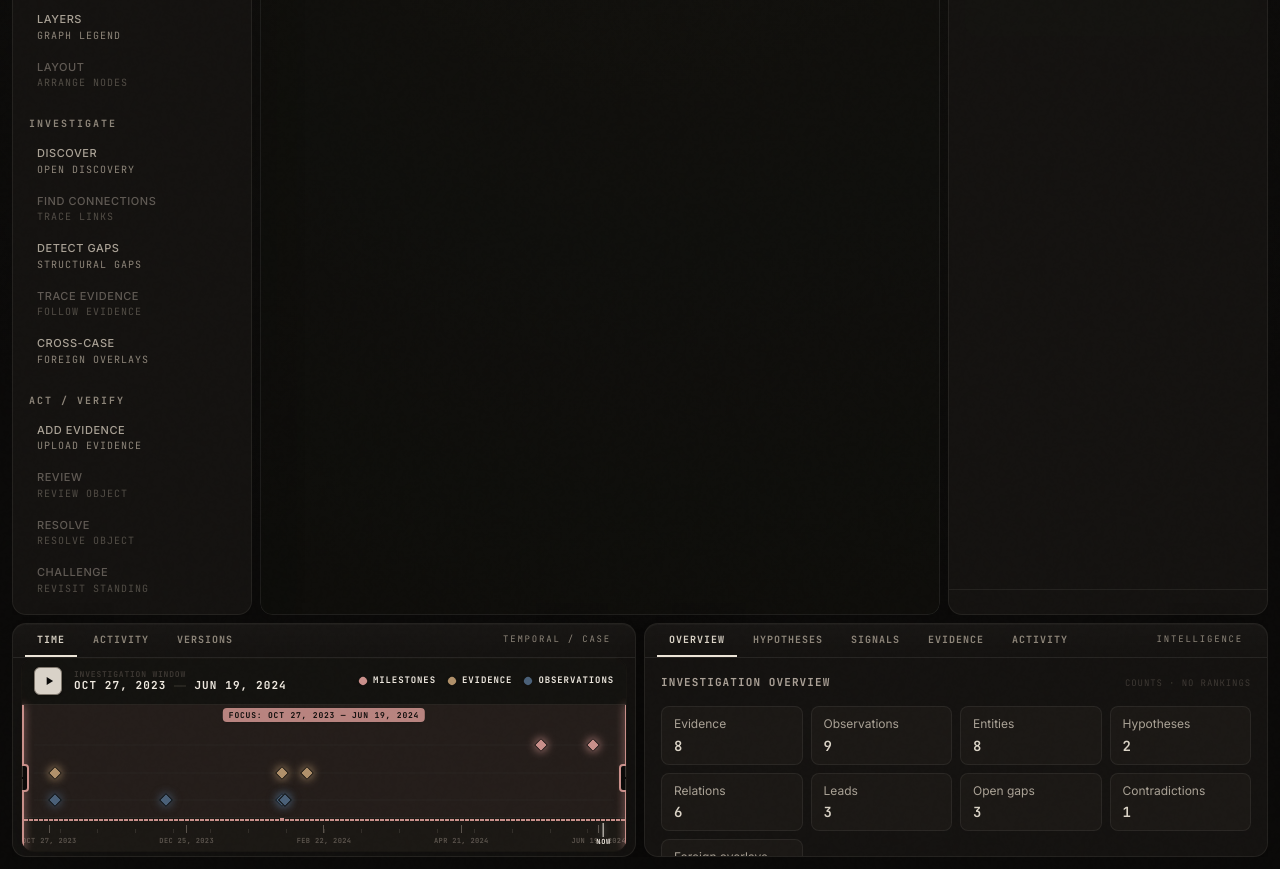
Scenario: PR-2 — initial five-zone layout › composes the TimelinePanel inside the TIME tab and leaves it mounted only there
(page scrolled)
Expected: the text "MILESTONES" is shown, left=359, top=674, right=436, bottom=688
Step 1. Click the tab "Versions" → (205, 640), box left=165, top=624, right=245, bottom=656
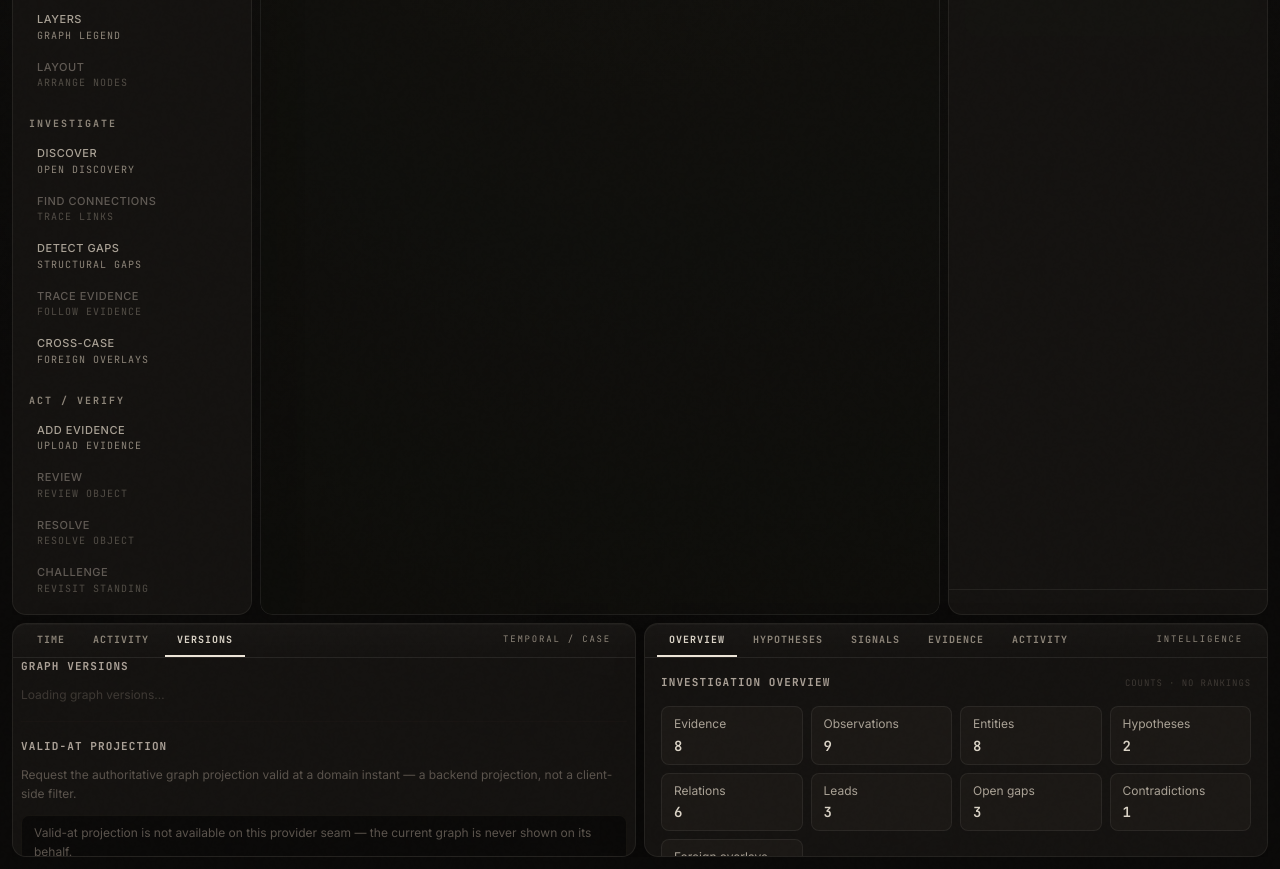
Now the text "MILESTONES" is gone
Now the heading "Graph versions" is shown, box left=21, top=658, right=129, bottom=674
Step 2. Click the tab "Time" → (51, 640), box left=25, top=624, right=77, bottom=656
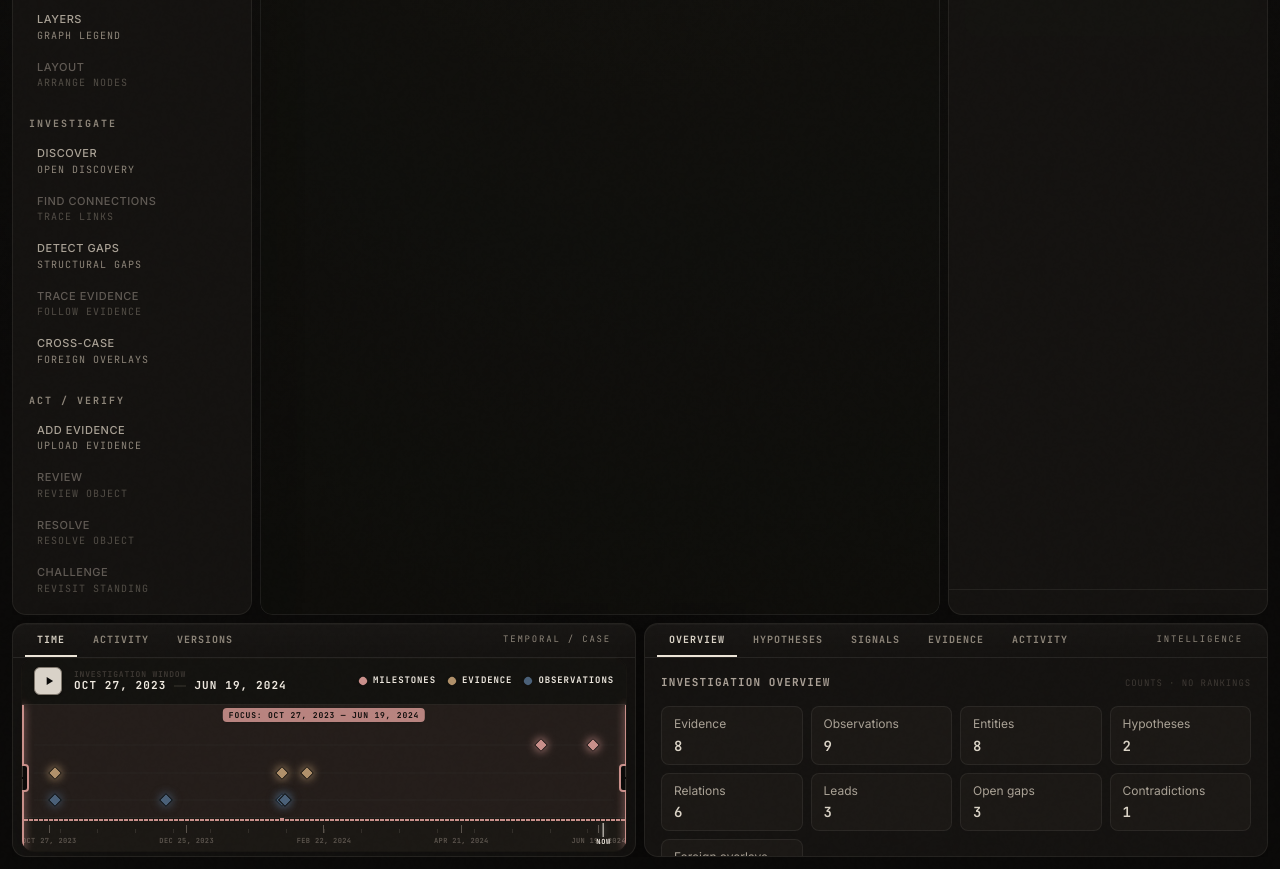
Now the text "MILESTONES" is shown, box left=359, top=674, right=436, bottom=688
